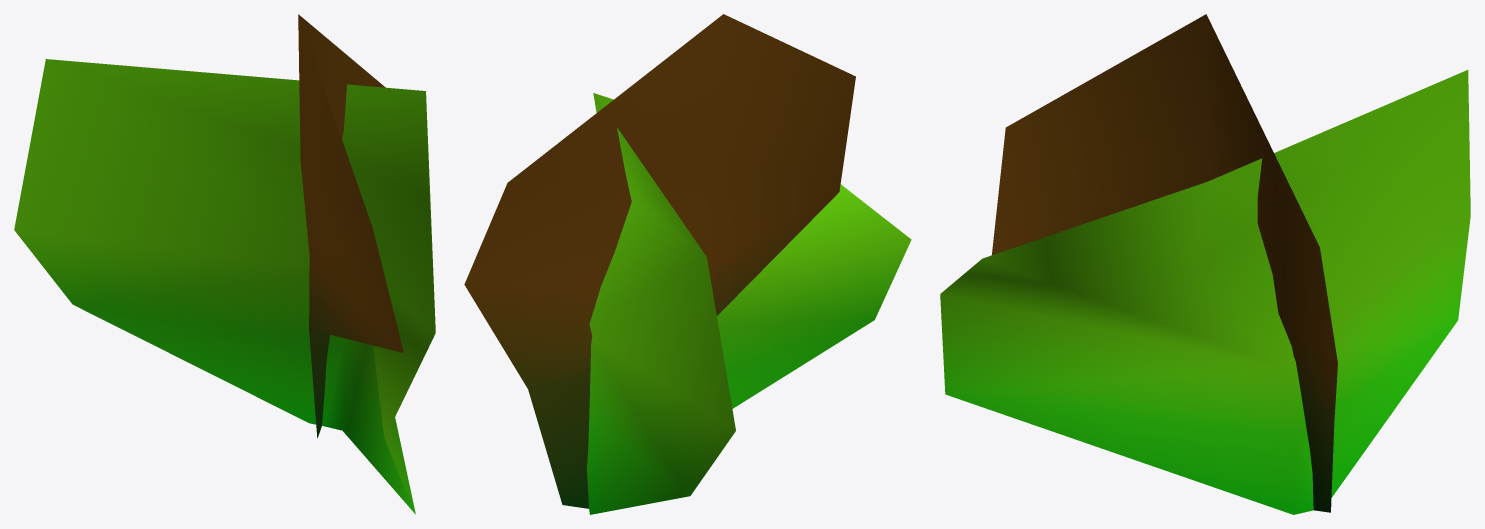
File: Var1Hi51.fbx
3 renders of one model, left to right at view 1: azimuth 30°, elevation 25°; view 2: azimuth 150°, elevation 25°; view 3: azimuth 270°, elevation 25°, orthographic. The views are drawn at different scales.
Parts seen in each view (by area): view 1: bend1; view 2: bend1; view 3: bend1.
Part boxes in pixels (bbox=[...]): bend1: bbox=[14, 14, 435, 514]; bend1: bbox=[464, 14, 911, 514]; bend1: bbox=[940, 14, 1470, 514].
Bounding box in the file's own units: 1.03 × 1.38 × 1.43.
